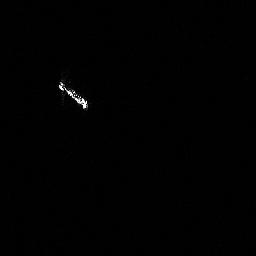ship: (54, 77, 91, 113)
